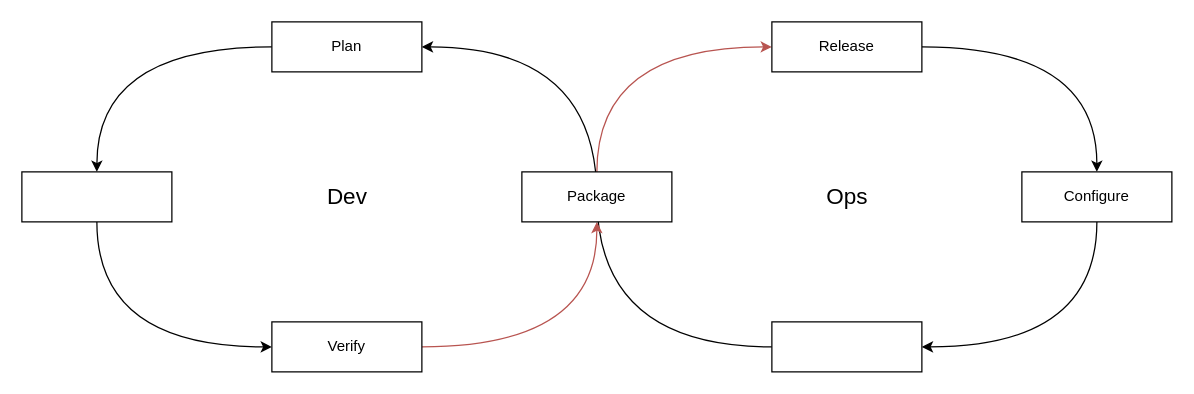
This 1194x394 diagram has some shape labels left out. The shapes that lost their labels are listed below. From the top down, each one's centre as x and y in pixels, then its label:
the point at 96,196: Create
the point at 846,346: Monitor
